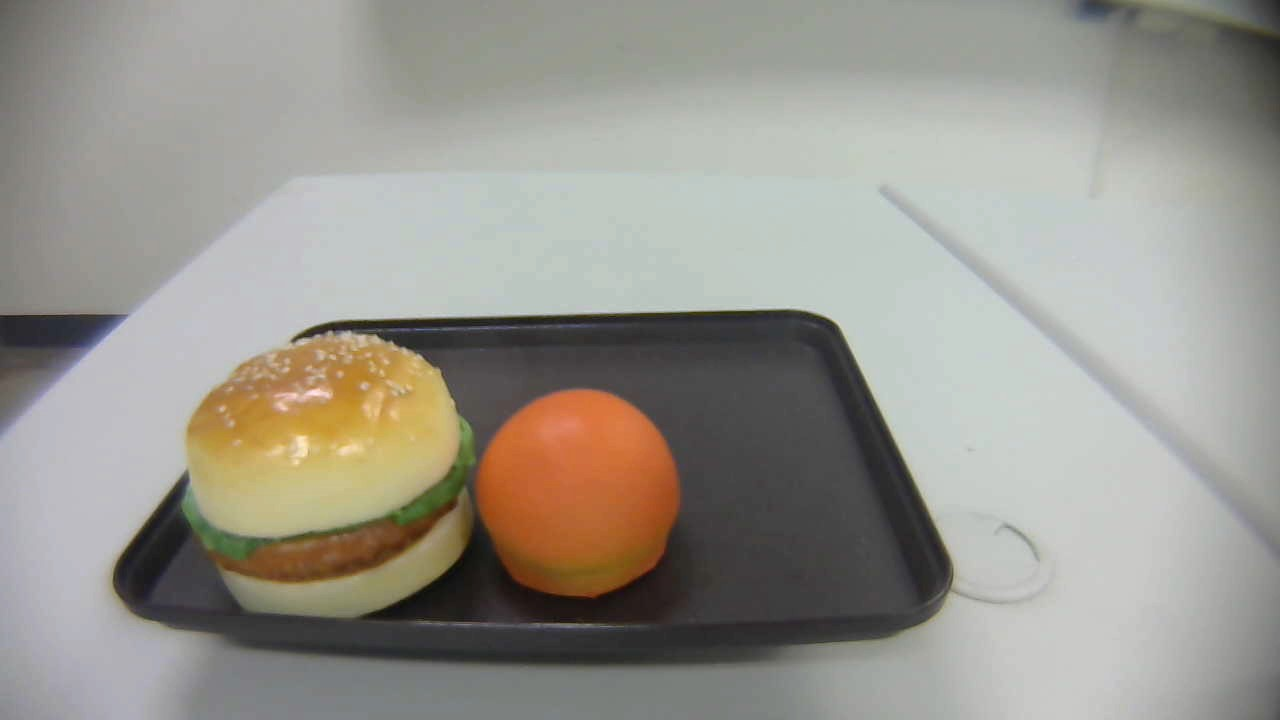bun: (474, 388, 681, 599)
hamburger: (182, 332, 476, 623)
